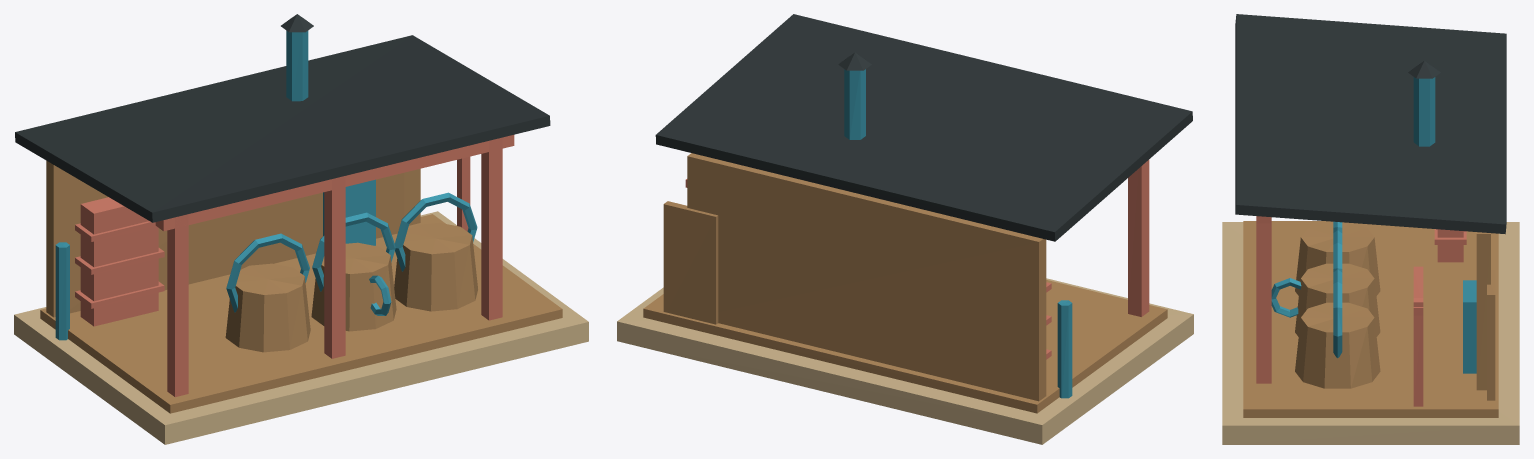
The model's file is tannery.source.glb.
3 views of the same model, side by side, from view 1: azimuth 30°, elevation 25°; view 2: azimuth 150°, elevation 25°; view 3: azimuth 270°, elevation 25° (orthographic). The views are drawn at different scales.
Parts seen in each view (by area): view 1: tannery-shallow-charcoal-covered-bay-roof-mesh, tannery-clean-washable-work-floor-mesh, tannery-low-dry-stone-curb-mesh, tannery-empty-round-tanning-vat-mesh (×3), tannery-semi-enclosed-tannery-rear-wall-mesh, tannery-slender-timber-cover-post-mesh (×3), tannery-empty-material-receiving-rack-mesh, tannery-front-timber-cover-beam-mesh, tannery-tanning-vat-reinforcing-rim-mesh (×3), tannery-empty-receiving-rack-bar-mesh (×3), tannery-small-dark-power-service-cabinet-mesh, tannery-thin-tannery-ventilation-stack-mesh (+3 smaller); view 2: tannery-shallow-charcoal-covered-bay-roof-mesh, tannery-semi-enclosed-tannery-rear-wall-mesh, tannery-low-dry-stone-curb-mesh, tannery-clean-washable-work-floor-mesh, tannery-small-tannery-service-door-mesh, tannery-slender-timber-cover-post-mesh, tannery-water-connection-pipe-mesh, tannery-thin-tannery-ventilation-stack-mesh; view 3: tannery-shallow-charcoal-covered-bay-roof-mesh, tannery-clean-washable-work-floor-mesh, tannery-low-dry-stone-curb-mesh, tannery-empty-round-tanning-vat-mesh (×3), tannery-slender-timber-cover-post-mesh, tannery-semi-enclosed-tannery-rear-wall-mesh, tannery-thin-tannery-ventilation-stack-mesh, tannery-small-dark-power-service-cabinet-mesh, tannery-tanning-vat-reinforcing-rim-mesh (×2), tannery-small-tannery-service-door-mesh, tannery-empty-drying-frame-output-cue-mesh, tannery-empty-material-receiving-rack-mesh (+4 smaller).
Part boxes in pixels (bbox=[...]): tannery-shallow-charcoal-covered-bay-roof-mesh: bbox=[15, 35, 550, 222]; tannery-clean-washable-work-floor-mesh: bbox=[40, 214, 562, 413]; tannery-low-dry-stone-curb-mesh: bbox=[14, 211, 588, 444]; tannery-empty-round-tanning-vat-mesh (×3): bbox=[225, 222, 477, 352]; tannery-semi-enclosed-tannery-rear-wall-mesh: bbox=[46, 160, 404, 317]; tannery-slender-timber-cover-post-mesh (×3): bbox=[167, 137, 502, 397]; tannery-empty-material-receiving-rack-mesh: bbox=[80, 197, 158, 326]; tannery-front-timber-cover-beam-mesh: bbox=[155, 135, 514, 231]; tannery-tanning-vat-reinforcing-rim-mesh (×3): bbox=[226, 192, 477, 312]; tannery-empty-receiving-rack-bar-mesh (×3): bbox=[75, 221, 164, 308]; tannery-small-dark-power-service-cabinet-mesh: bbox=[323, 179, 375, 245]; tannery-thin-tannery-ventilation-stack-mesh: bbox=[286, 30, 308, 101]; tannery-shallow-charcoal-covered-bay-roof-mesh: bbox=[655, 14, 1192, 241]; tannery-semi-enclosed-tannery-rear-wall-mesh: bbox=[687, 153, 1046, 401]; tannery-low-dry-stone-curb-mesh: bbox=[617, 278, 1193, 444]; tannery-clean-washable-work-floor-mesh: bbox=[643, 280, 1167, 413]; tannery-small-tannery-service-door-mesh: bbox=[663, 201, 718, 324]; tannery-slender-timber-cover-post-mesh: bbox=[1128, 159, 1149, 316]; tannery-water-connection-pipe-mesh: bbox=[1057, 300, 1072, 398]; tannery-thin-tannery-ventilation-stack-mesh: bbox=[844, 69, 865, 139]; tannery-shallow-charcoal-covered-bay-roof-mesh: bbox=[1235, 14, 1506, 234]; tannery-clean-washable-work-floor-mesh: bbox=[1243, 221, 1498, 417]; tannery-low-dry-stone-curb-mesh: bbox=[1222, 222, 1519, 444]; tannery-empty-round-tanning-vat-mesh (×3): bbox=[1295, 222, 1380, 388]; tannery-slender-timber-cover-post-mesh: bbox=[1256, 223, 1271, 383]; tannery-semi-enclosed-tannery-rear-wall-mesh: bbox=[1476, 232, 1490, 390]; tannery-thin-tannery-ventilation-stack-mesh: bbox=[1413, 77, 1435, 146]; tannery-small-dark-power-service-cabinet-mesh: bbox=[1463, 280, 1476, 373]; tannery-tanning-vat-reinforcing-rim-mesh (×2): bbox=[1333, 230, 1342, 358]; tannery-small-tannery-service-door-mesh: bbox=[1487, 270, 1495, 400]; tannery-empty-drying-frame-output-cue-mesh: bbox=[1413, 298, 1423, 406]; tannery-empty-material-receiving-rack-mesh: bbox=[1437, 229, 1463, 262].
Bounding box in the file's own units: 4.11 × 2.73 × 2.5.
